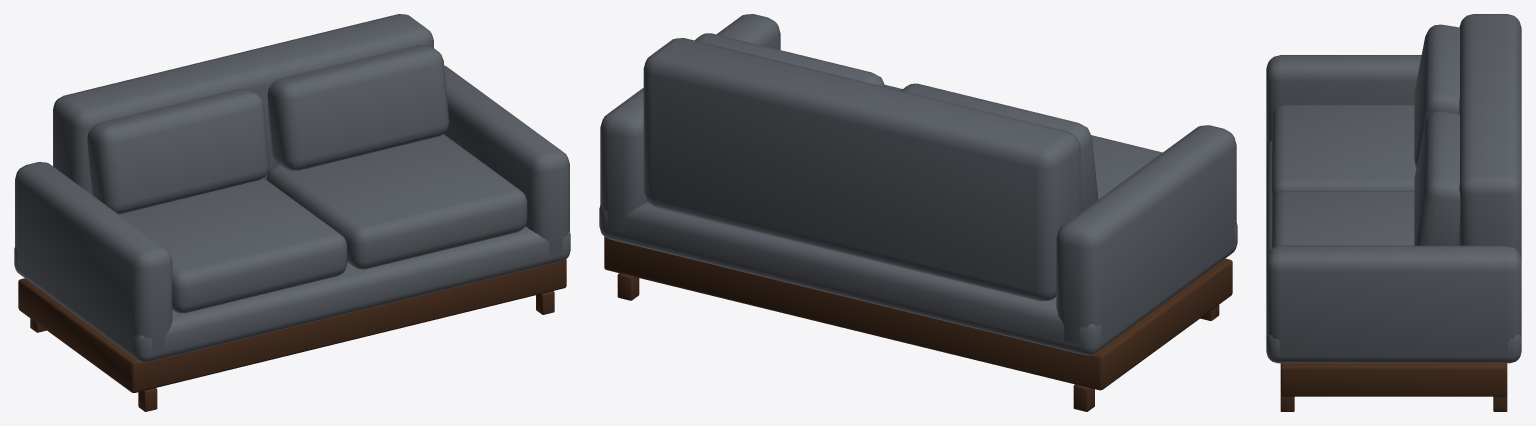
File: Sofa_2Seat.glb
The picture shows the model from 3 angles, left to right: view 1: azimuth 30°, elevation 25°; view 2: azimuth 150°, elevation 25°; view 3: azimuth 270°, elevation 25°; orthographic projection. The views are drawn at different scales.
Visible parts, largest first — view 1: Sofa_2Seat; view 2: Sofa_2Seat; view 3: Sofa_2Seat.
Part boxes in pixels (x1=…): Sofa_2Seat: x1=14, y1=14, x2=570, y2=411; Sofa_2Seat: x1=599, y1=14, x2=1237, y2=411; Sofa_2Seat: x1=1266, y1=14, x2=1521, y2=411.
Bounding box in the file's own units: 1.74 × 0.85 × 0.901.
